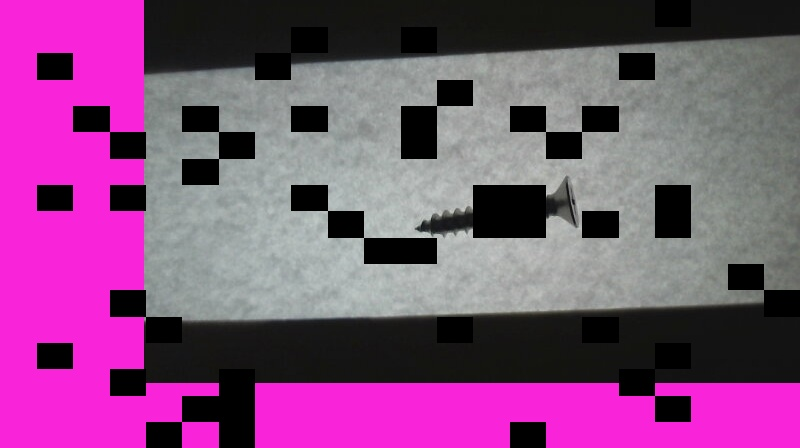S001: (412, 173, 580, 238)
